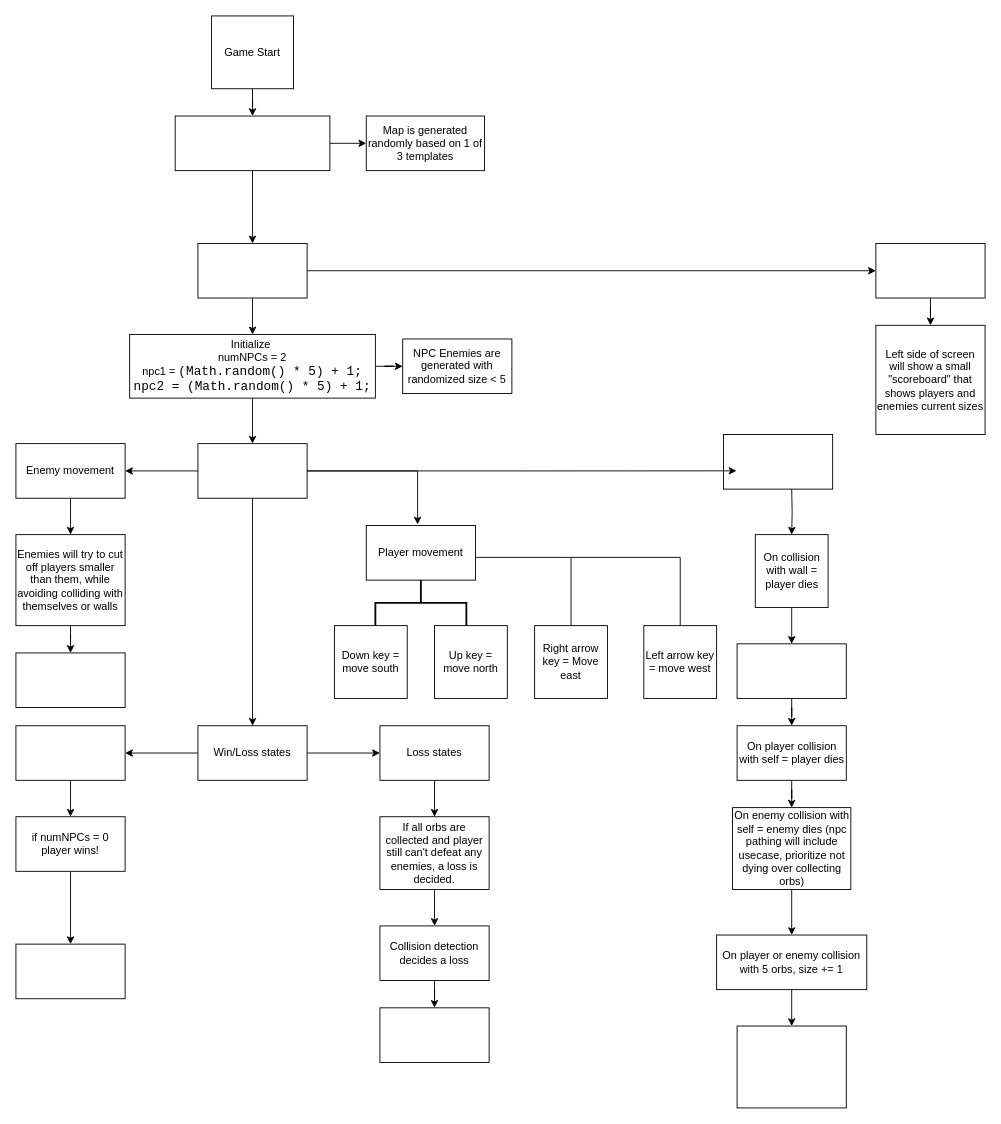
Some shapes in this 1001 by 1124 pixel diagram are drawn without their labels. The centre of each missing label's shape, as x and y in pixels:
"Add collision to walls based on template" belongs at (252,270).
"Collision system" belongs at (778,461).
"Enemies will also try to grab orbs to increase their own size" belongs at (70,680).
"Initialize map = (Math.random() * 3) + 1;" belongs at (252,143).
"Initialize player = 1; player size = 1;" belongs at (252,470).
"Loss screen + Return to title" belongs at (434,1034).
"On collision with enemy.size > player.size = player dies" belongs at (791,670).
"On player collision with enemy size < player size = enemy dies numNPCs =- 1" belongs at (791,1066).
"Scoreboard system" belongs at (930,270).
"Victory screen + Return to title" belongs at (70,971).
"Win states" belongs at (70,752).
